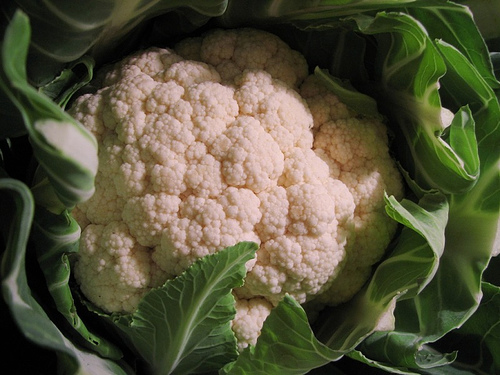cauliflower: (50, 24, 419, 358)
